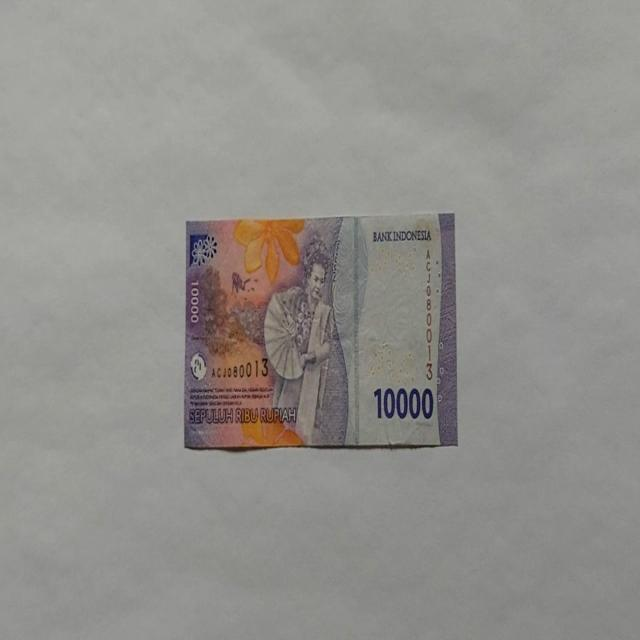Kertas: (183, 212, 457, 450), (372, 384, 434, 421)
